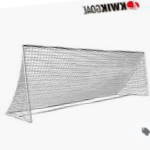goals: (4, 43, 150, 123)
